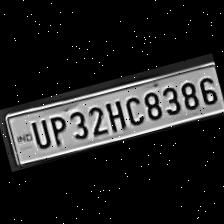2: (82, 100, 108, 137)
3: (63, 105, 91, 142), (157, 80, 184, 116)
6: (192, 71, 220, 107)
8: (137, 85, 165, 122), (174, 76, 202, 112)
C: (120, 90, 146, 127)
H: (101, 95, 128, 132)
P: (43, 110, 70, 148)
U: (25, 114, 52, 150)
